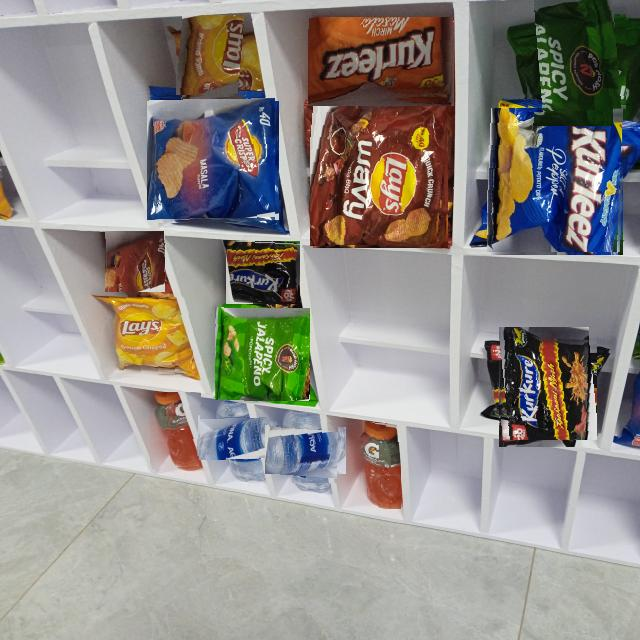Plastic: (310, 106, 450, 246), (487, 111, 626, 252), (150, 98, 276, 224), (308, 17, 454, 106), (520, 6, 626, 112), (492, 334, 597, 440), (216, 308, 310, 402), (100, 297, 194, 378), (176, 20, 251, 95), (226, 240, 300, 304), (274, 418, 338, 483), (150, 392, 201, 470), (104, 231, 165, 292), (208, 409, 269, 470), (359, 421, 401, 509)
